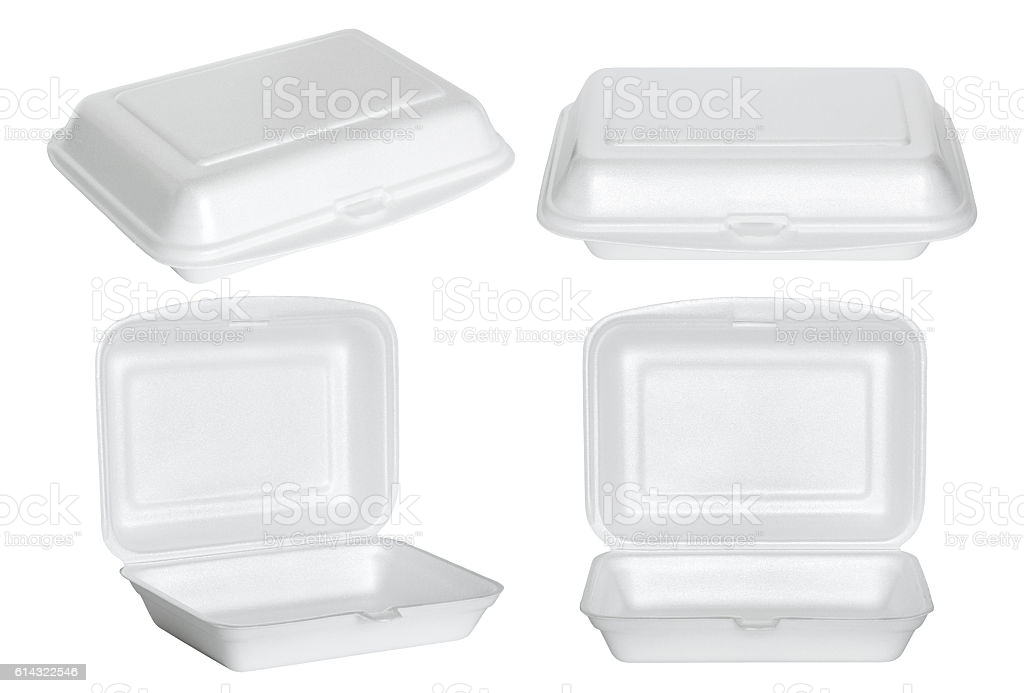Foam Box: (82, 296, 507, 674), (572, 296, 947, 668), (38, 24, 519, 287), (528, 57, 989, 272)
